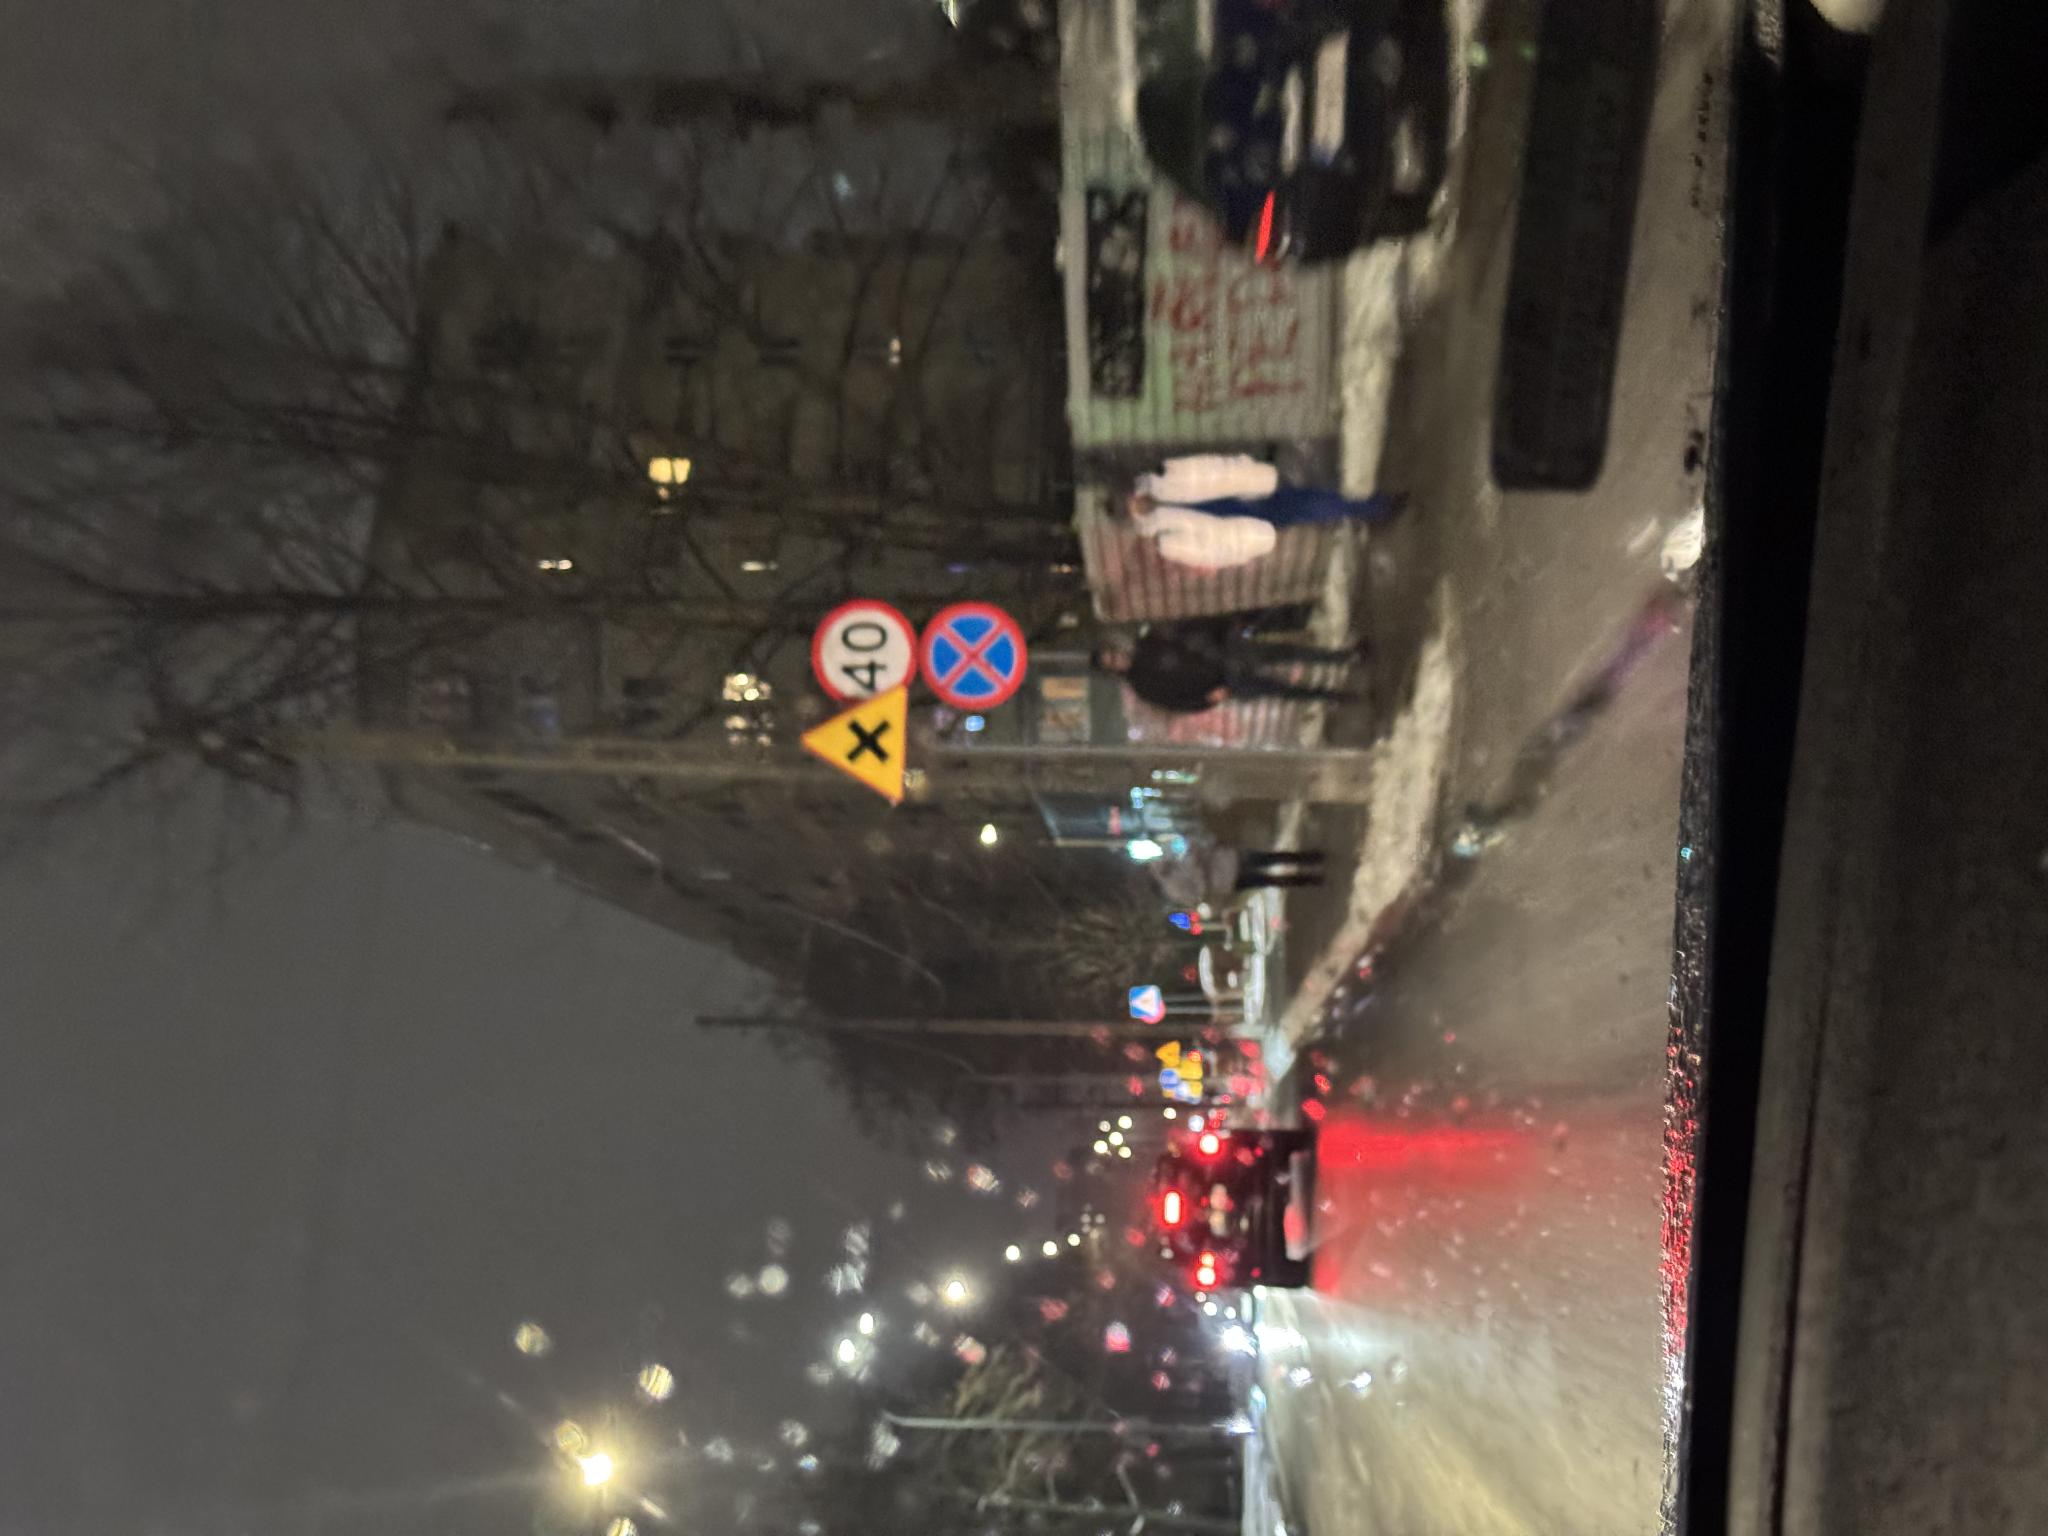prohibitory: (826, 920, 937, 1029), (835, 808, 940, 918)
warning: (732, 799, 853, 908)
